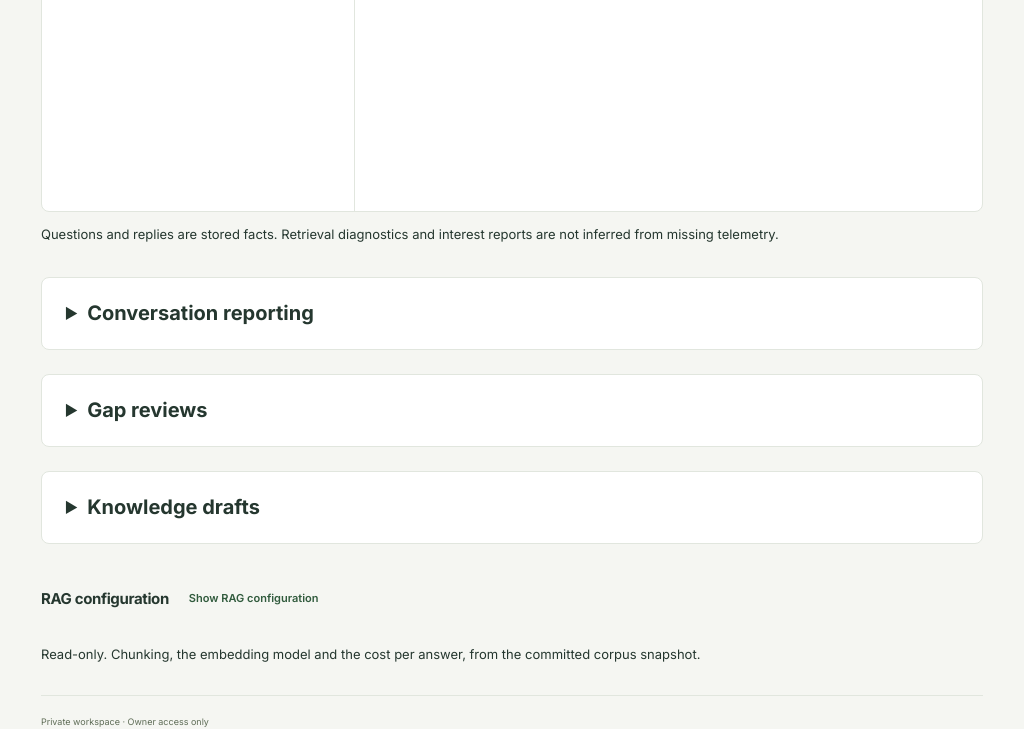
Scenario: loads the RAG configuration only on request, from the owner API
This screenshot has width=1024, height=729.
(page scrolled)
Click the button "Show RAG configuration": (254, 598) [189,576,318,620]
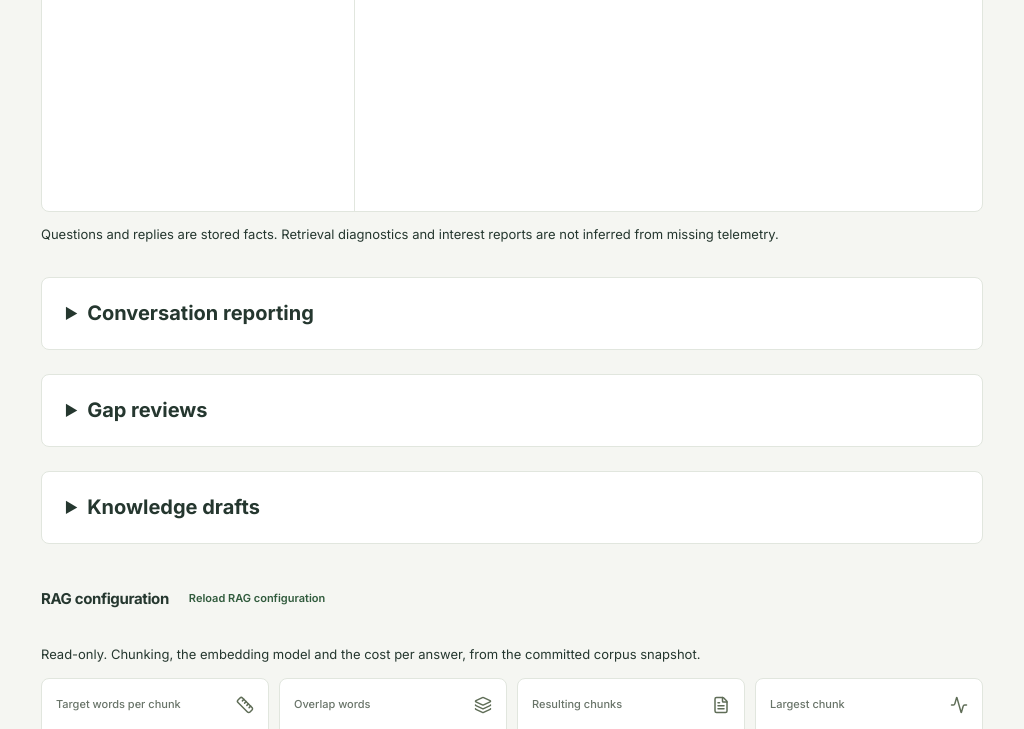
Expected: the heading "Target words per chunk" is shown, [56,697,181,712]
